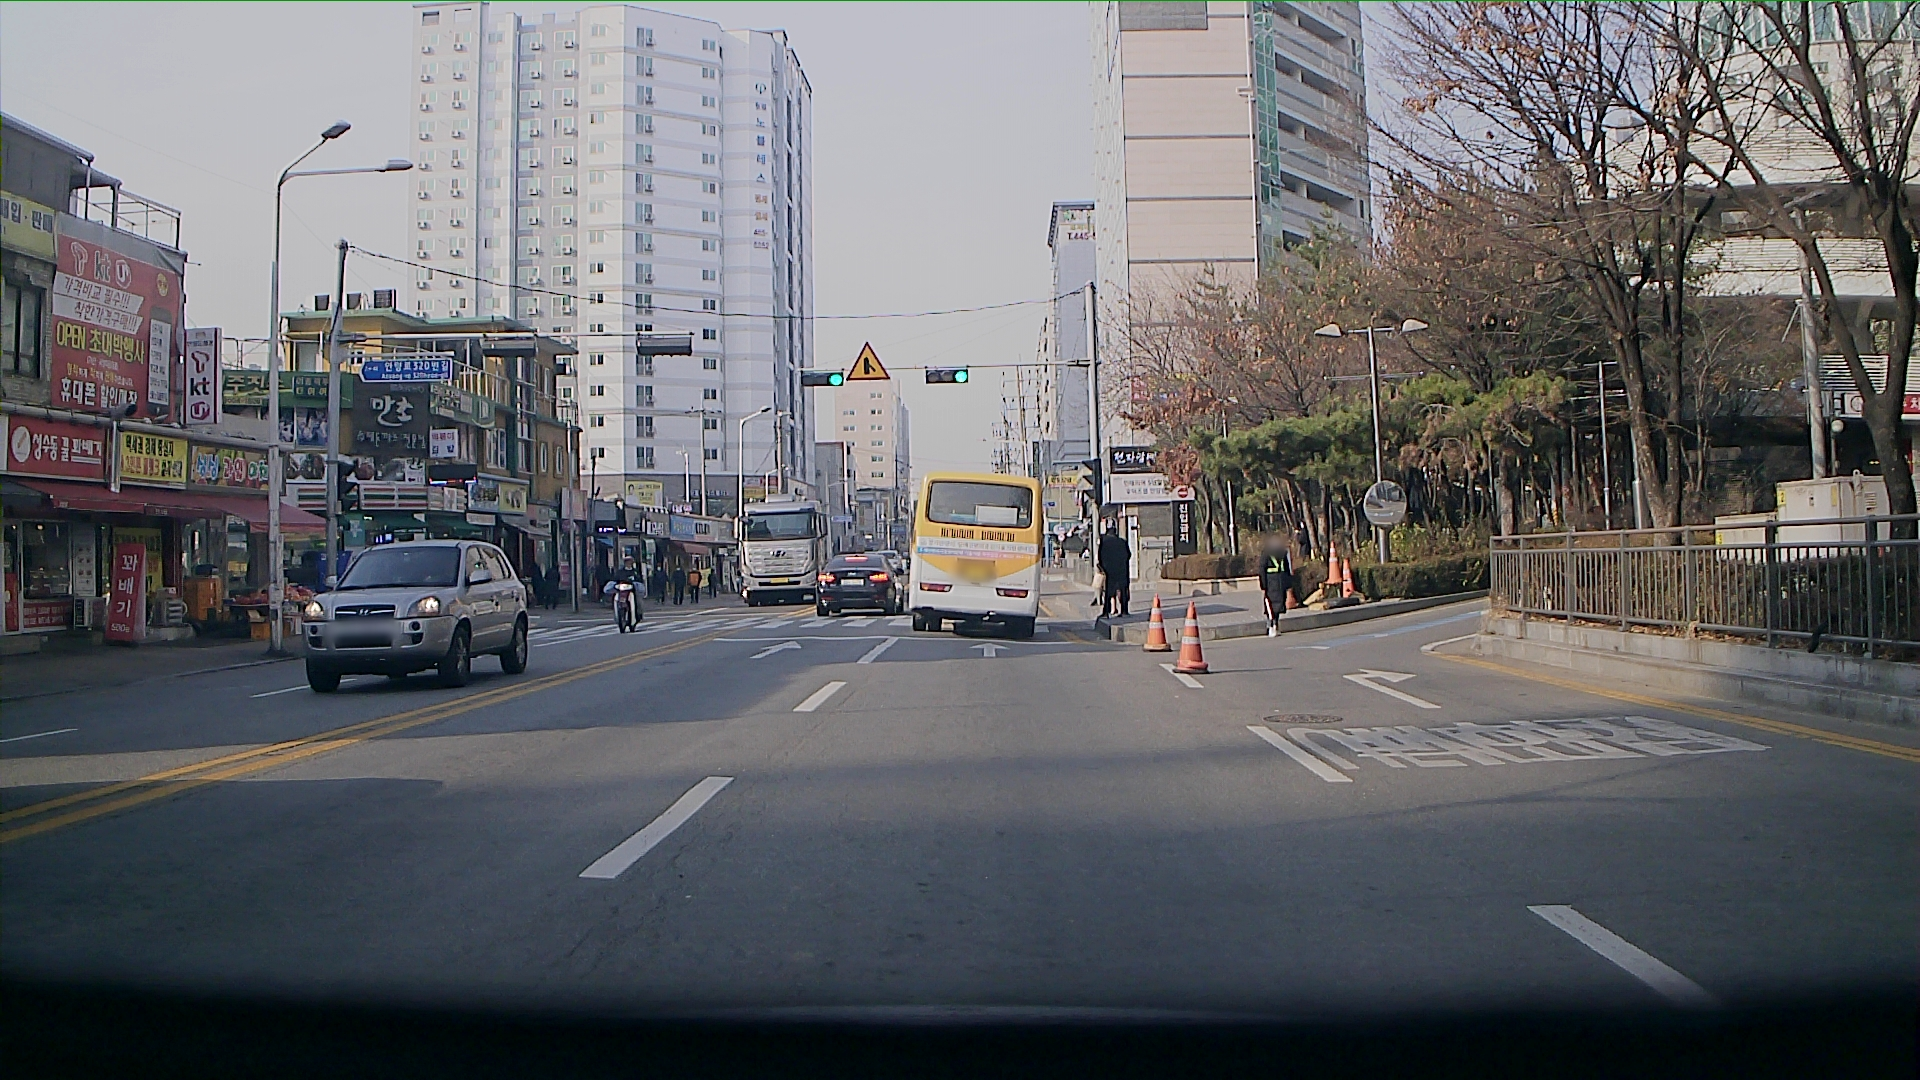trafficLight: (923, 359, 968, 385), (796, 372, 832, 392)
trafficSignTri: (844, 336, 886, 382)
